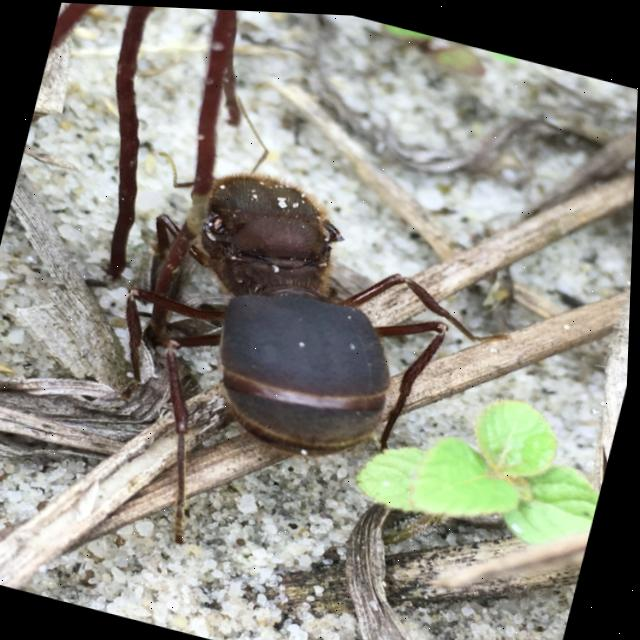Alive-Female-Dealate: (68, 74, 556, 611)
